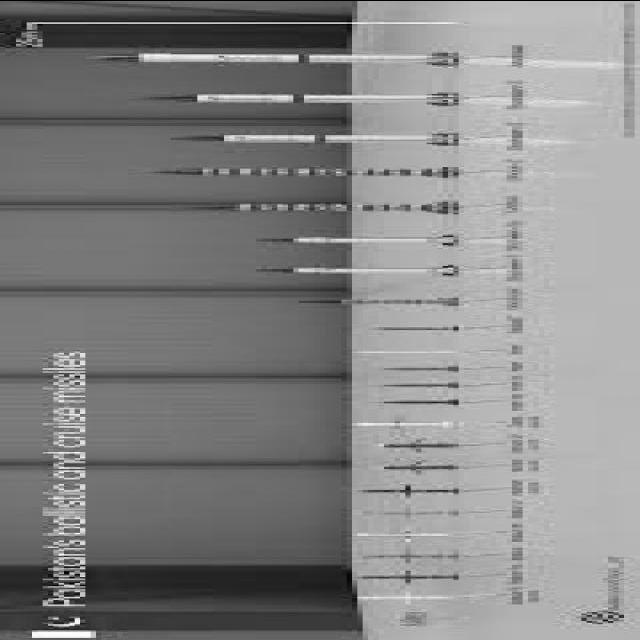missile: (137, 127, 463, 148), (71, 48, 465, 64), (119, 90, 474, 106), (143, 164, 457, 178)
